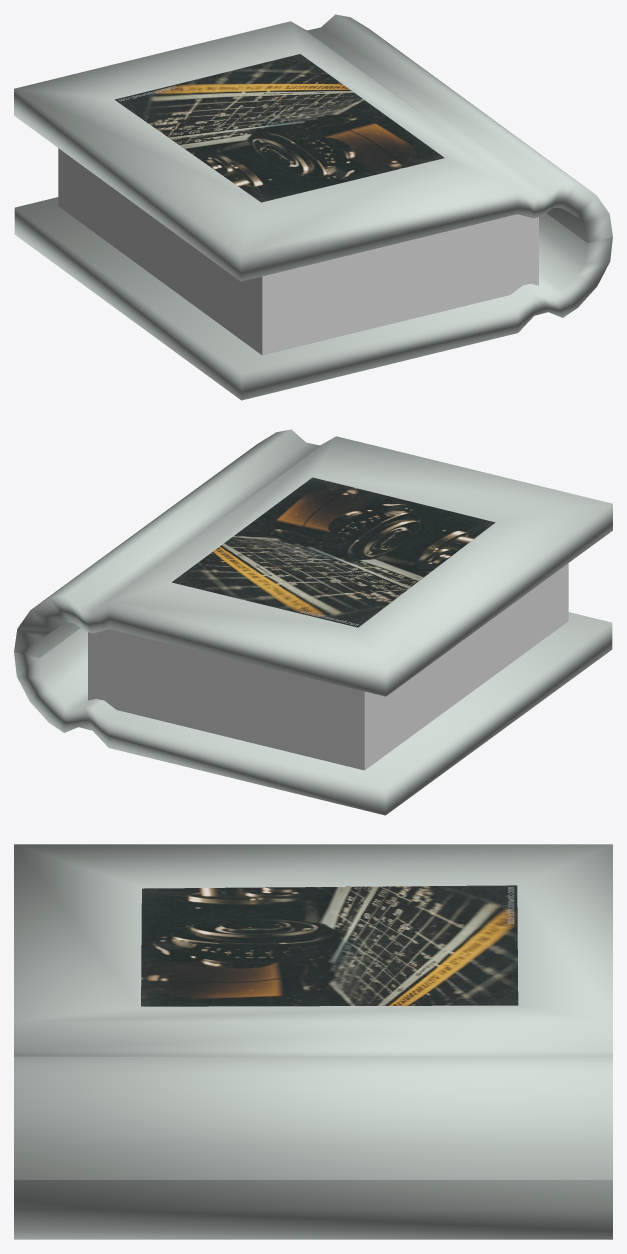
File: books2.glb
The picture shows the model from 3 angles, top to bottom: view 1: azimuth 30°, elevation 25°; view 2: azimuth 150°, elevation 25°; view 3: azimuth 270°, elevation 25°; orthographic projection. The views are drawn at different scales.
Visible parts, largest first — view 1: Cube.002; view 2: Cube.002; view 3: Cube.002.
Part boxes in pixels (x1,y1,x2,y2): Cube.002: (14, 14, 612, 400); Cube.002: (14, 429, 612, 815); Cube.002: (14, 844, 612, 1239).
Size of the model in its own units: 0.2754 by 0.1031 by 0.2909.
Materials: 3 (1 with a texture image).
